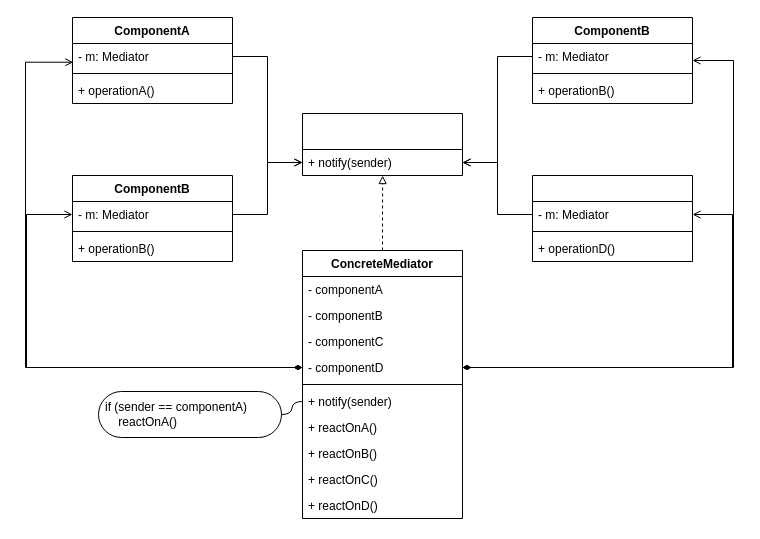
The diagram is 760 pixels wide and 539 high, and some of its shapes have lost their labels. The shapes that lost their labels are listed below. From the top down, each one's box as (x1, y1, x2, y2) in pixels, then its label:
(302, 112, 462, 176): «interface» Mediator
(532, 174, 692, 262): ComponentD
